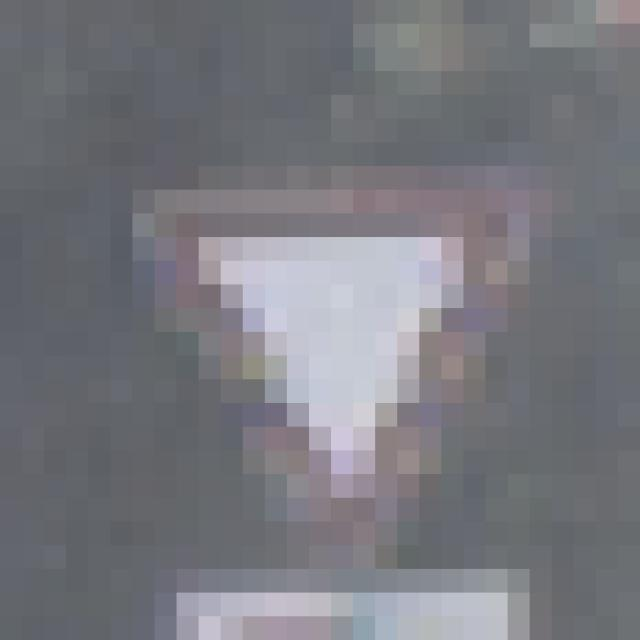Give Way: (134, 143, 531, 523)
